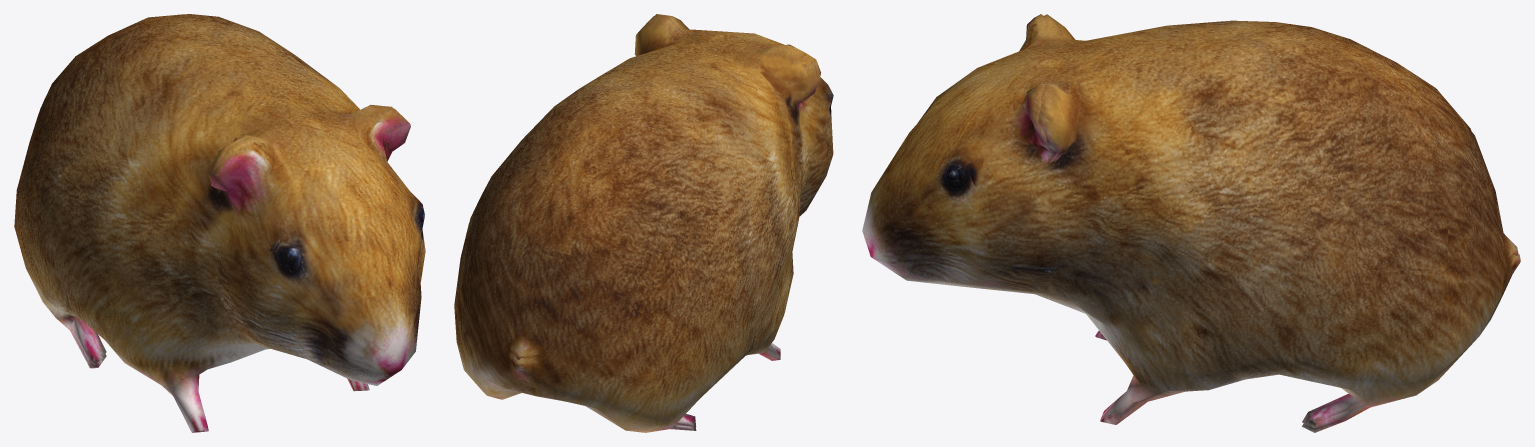
Rendered from Hampter.fbx.
3 views of the same model, side by side, from view 1: azimuth 30°, elevation 25°; view 2: azimuth 150°, elevation 25°; view 3: azimuth 270°, elevation 25° (orthographic). The views are drawn at different scales.
Visible parts, largest first — view 1: Hamster_Low_Poly, Hamster_Low_Poly.001; view 2: Hamster_Low_Poly, Hamster_Low_Poly.001; view 3: Hamster_Low_Poly, Hamster_Low_Poly.001.
Boxes of the visible parts, x1,y1,x2,y2 form: Hamster_Low_Poly: (18, 14, 425, 431); Hamster_Low_Poly.001: (14, 99, 419, 432); Hamster_Low_Poly: (461, 14, 833, 426); Hamster_Low_Poly.001: (454, 16, 831, 432); Hamster_Low_Poly: (862, 14, 1518, 428); Hamster_Low_Poly.001: (966, 14, 1520, 432).
Bounding box in the file's own units: 3.09 × 3.32 × 5.72.
